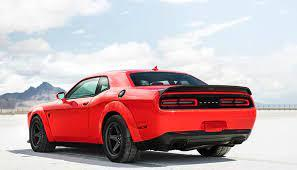dodge: (197, 99, 222, 107)
